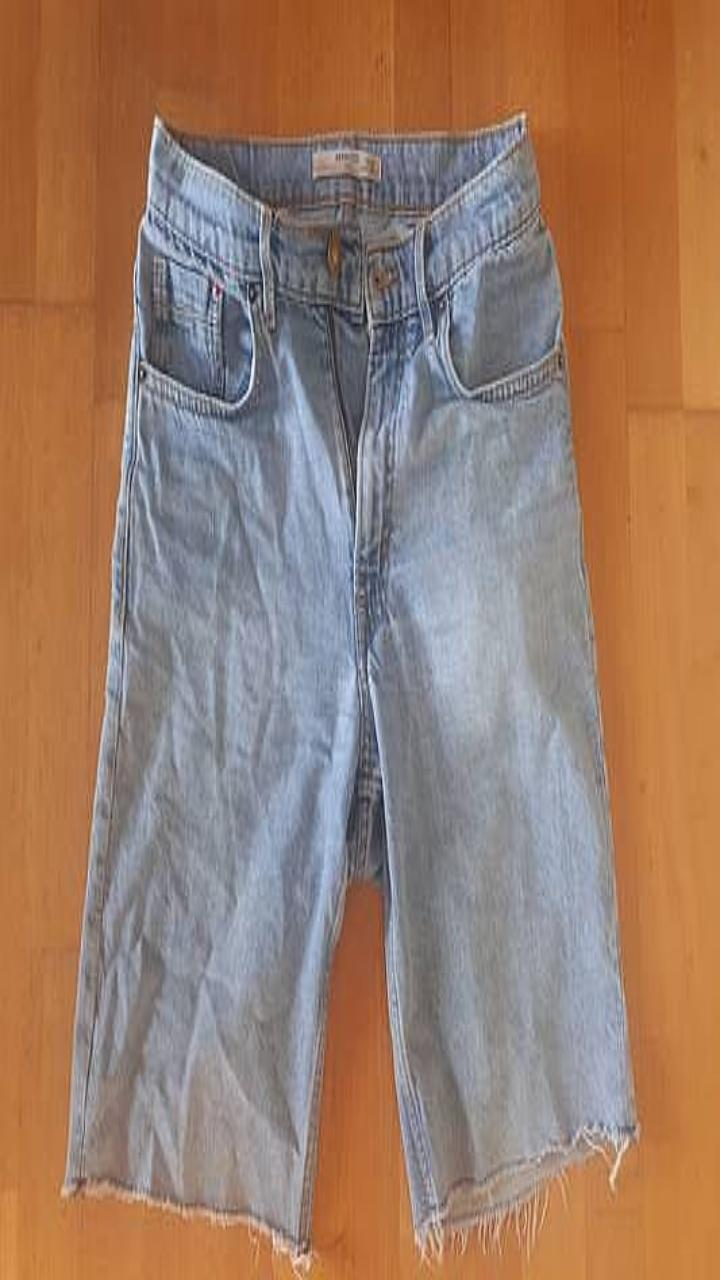Shorts: (63, 112, 638, 1263)
